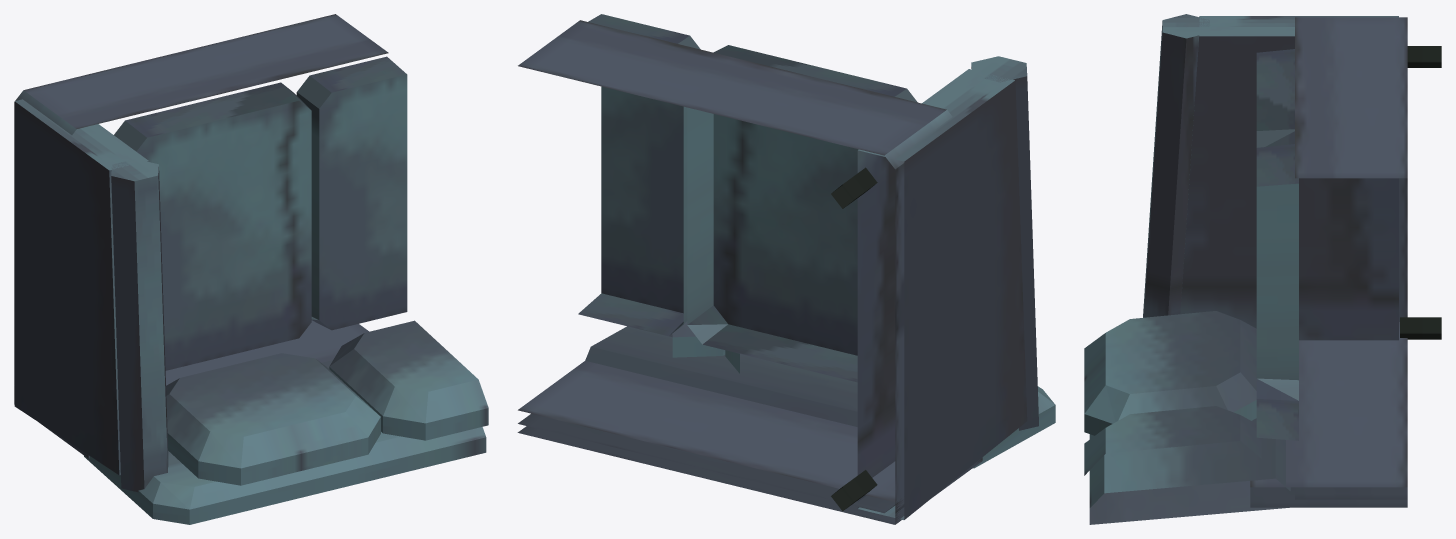
File: pz_sofa_seating_indoor_03_blue_comfy_0_0_fidelity_r1.obj
3 renders of one model, left to right at view 1: azimuth 30°, elevation 25°; view 2: azimuth 150°, elevation 25°; view 3: azimuth 270°, elevation 25°, orthographic. The views are drawn at different scales.
Visible parts, largest first — view 1: pz_sofa_seating_indoor_03_blue_comfy_0_0__seat_0__seat, pz_sofa_seating_indoor_03_blue_comfy_0_0__arm_panel_-1__arm, pz_sofa_seating_indoor_03_blue_comfy_0_0__seat_1__seat, pz_sofa_seating_indoor_03_blue_comfy_0_0__back_cushion_0__back, pz_sofa_seating_indoor_03_blue_comfy_0_0__lower_body__body, pz_sofa_seating_indoor_03_blue_comfy_0_0__rounded_rail_-1__arm, pz_sofa_seating_indoor_03_blue_comfy_0_0__back_cushion_1__back, pz_sofa_seating_indoor_03_blue_comfy_0_0__rear_shell__back, pz_sofa_seating_indoor_03_blue_comfy_0_0__rear_body_bridge__body; view 2: pz_sofa_seating_indoor_03_blue_comfy_0_0__arm_panel_-1__arm, pz_sofa_seating_indoor_03_blue_comfy_0_0__seat_0__seat, pz_sofa_seating_indoor_03_blue_comfy_0_0__lower_body__body, pz_sofa_seating_indoor_03_blue_comfy_0_0__rear_body_bridge__body, pz_sofa_seating_indoor_03_blue_comfy_0_0__seat_1__seat, pz_sofa_seating_indoor_03_blue_comfy_0_0__rear_shell__back, pz_sofa_seating_indoor_03_blue_comfy_0_0__rounded_rail_-1__arm, pz_sofa_seating_indoor_03_blue_comfy_0_0__back_cushion_1__back, pz_sofa_seating_indoor_03_blue_comfy_0_0__foot_-1_-1__frame, pz_sofa_seating_indoor_03_blue_comfy_0_0__foot_-1_1__frame; view 3: pz_sofa_seating_indoor_03_blue_comfy_0_0__arm_panel_-1__arm, pz_sofa_seating_indoor_03_blue_comfy_0_0__lower_body__body, pz_sofa_seating_indoor_03_blue_comfy_0_0__rear_body_bridge__body, pz_sofa_seating_indoor_03_blue_comfy_0_0__back_cushion_0__back, pz_sofa_seating_indoor_03_blue_comfy_0_0__rear_shell__back, pz_sofa_seating_indoor_03_blue_comfy_0_0__seat_1__seat, pz_sofa_seating_indoor_03_blue_comfy_0_0__rounded_rail_-1__arm, pz_sofa_seating_indoor_03_blue_comfy_0_0__back_cushion_1__back, pz_sofa_seating_indoor_03_blue_comfy_0_0__seat_0__seat, pz_sofa_seating_indoor_03_blue_comfy_0_0__foot_-1_-1__frame, pz_sofa_seating_indoor_03_blue_comfy_0_0__foot_-1_1__frame.
Part boxes in pixels (<box>): pz_sofa_seating_indoor_03_blue_comfy_0_0__seat_0__seat: <box>114,82,311,370</box>; pz_sofa_seating_indoor_03_blue_comfy_0_0__arm_panel_-1__arm: <box>14,99,148,475</box>; pz_sofa_seating_indoor_03_blue_comfy_0_0__seat_1__seat: <box>296,56,407,330</box>; pz_sofa_seating_indoor_03_blue_comfy_0_0__back_cushion_0__back: <box>166,353,380,485</box>; pz_sofa_seating_indoor_03_blue_comfy_0_0__lower_body__body: <box>14,14,388,386</box>; pz_sofa_seating_indoor_03_blue_comfy_0_0__rounded_rail_-1__arm: <box>111,159,168,492</box>; pz_sofa_seating_indoor_03_blue_comfy_0_0__back_cushion_1__back: <box>329,320,488,440</box>; pz_sofa_seating_indoor_03_blue_comfy_0_0__rear_shell__back: <box>84,360,486,524</box>; pz_sofa_seating_indoor_03_blue_comfy_0_0__rear_body_bridge__body: <box>14,320,368,458</box>; pz_sofa_seating_indoor_03_blue_comfy_0_0__arm_panel_-1__arm: <box>857,69,1027,519</box>; pz_sofa_seating_indoor_03_blue_comfy_0_0__seat_0__seat: <box>687,45,917,382</box>; pz_sofa_seating_indoor_03_blue_comfy_0_0__lower_body__body: <box>518,20,952,513</box>; pz_sofa_seating_indoor_03_blue_comfy_0_0__rear_body_bridge__body: <box>517,360,982,524</box>; pz_sofa_seating_indoor_03_blue_comfy_0_0__seat_1__seat: <box>578,14,700,336</box>; pz_sofa_seating_indoor_03_blue_comfy_0_0__rear_shell__back: <box>585,326,1055,468</box>; pz_sofa_seating_indoor_03_blue_comfy_0_0__rounded_rail_-1__arm: <box>971,56,1038,430</box>; pz_sofa_seating_indoor_03_blue_comfy_0_0__back_cushion_1__back: <box>669,321,725,357</box>; pz_sofa_seating_indoor_03_blue_comfy_0_0__foot_-1_-1__frame: <box>831,470,877,511</box>; pz_sofa_seating_indoor_03_blue_comfy_0_0__foot_-1_1__frame: <box>831,167,877,208</box>; pz_sofa_seating_indoor_03_blue_comfy_0_0__arm_panel_-1__arm: <box>1180,16,1398,340</box>; pz_sofa_seating_indoor_03_blue_comfy_0_0__lower_body__body: <box>1295,17,1407,499</box>; pz_sofa_seating_indoor_03_blue_comfy_0_0__rear_body_bridge__body: <box>1250,322,1407,507</box>; pz_sofa_seating_indoor_03_blue_comfy_0_0__back_cushion_0__back: <box>1084,311,1256,435</box>; pz_sofa_seating_indoor_03_blue_comfy_0_0__rear_shell__back: <box>1089,418,1290,524</box>; pz_sofa_seating_indoor_03_blue_comfy_0_0__seat_1__seat: <box>1256,144,1298,440</box>; pz_sofa_seating_indoor_03_blue_comfy_0_0__rounded_rail_-1__arm: <box>1143,14,1209,317</box>; pz_sofa_seating_indoor_03_blue_comfy_0_0__back_cushion_1__back: <box>1084,406,1261,475</box>; pz_sofa_seating_indoor_03_blue_comfy_0_0__seat_0__seat: <box>1256,49,1294,147</box>; pz_sofa_seating_indoor_03_blue_comfy_0_0__foot_-1_-1__frame: <box>1400,317,1441,339</box>; pz_sofa_seating_indoor_03_blue_comfy_0_0__foot_-1_1__frame: <box>1407,46,1441,67</box>.
Size of the model in its own units: 0.8906 by 0.8492 by 0.7928.
1 material, 1 textured.
